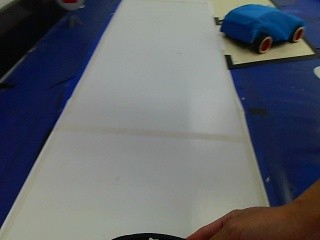car: (224, 3, 304, 57)
